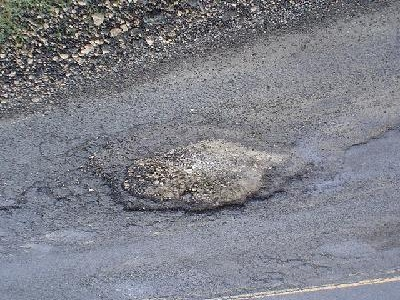pothole: (89, 131, 314, 218)
